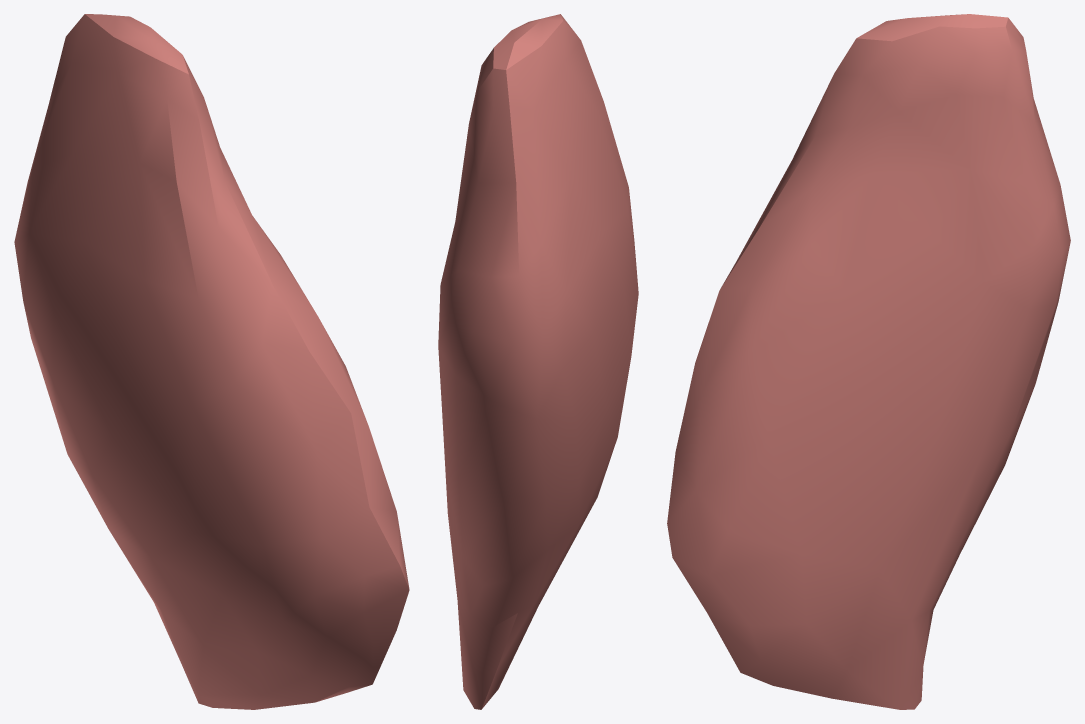
File: fma81576_mm2381m.glb
3 views of the same model, side by side, from view 1: azimuth 30°, elevation 25°; view 2: azimuth 150°, elevation 25°; view 3: azimuth 270°, elevation 25° (orthographic). The views are drawn at different scales.
Visible parts, largest first — view 1: FMA81576_MM2381M; view 2: FMA81576_MM2381M; view 3: FMA81576_MM2381M.
Boxes of the visible parts, x1=… form: FMA81576_MM2381M: x1=14, y1=14, x2=409, y2=709; FMA81576_MM2381M: x1=438, y1=14, x2=638, y2=709; FMA81576_MM2381M: x1=667, y1=14, x2=1070, y2=709.
Bounding box in the file's own units: 0.00759 × 0.0226 × 0.0125.
